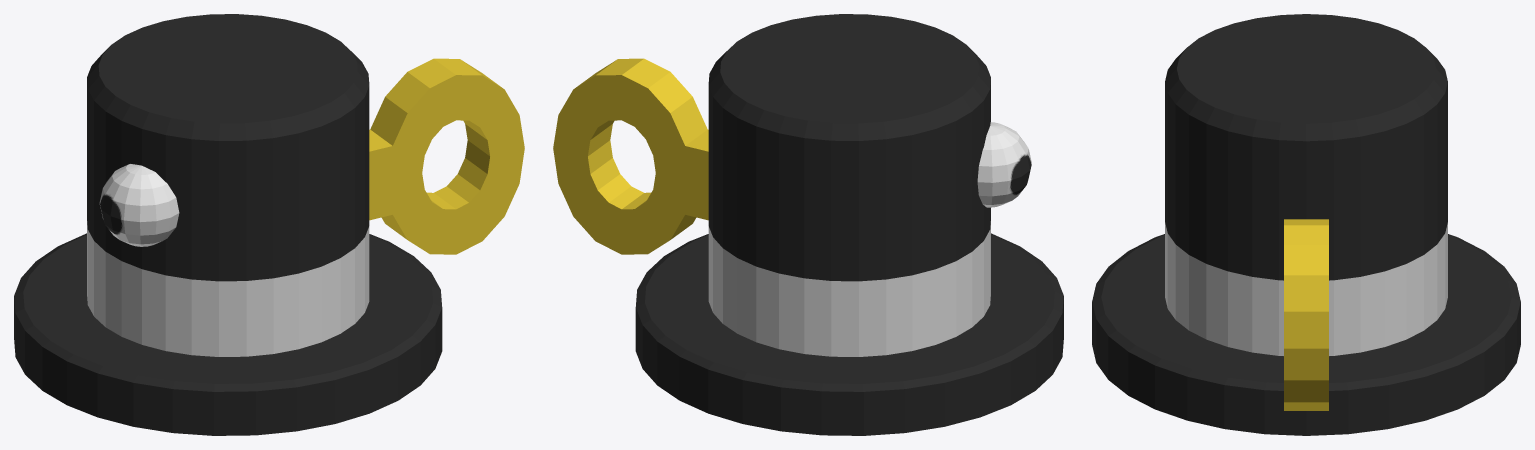
File: knob.glb
3 views of the same model, side by side, from view 1: azimuth 30°, elevation 25°; view 2: azimuth 150°, elevation 25°; view 3: azimuth 270°, elevation 25° (orthographic).
Visible parts, largest first — view 1: Cylinder, Cylinder.001, Sphere; view 2: Cylinder, Cylinder.001, Sphere; view 3: Cylinder, Cylinder.001.
Boxes of the visible parts, x1=… form: Cylinder: x1=14, y1=14, x2=442, y2=435; Cylinder.001: x1=369, y1=58, x2=524, y2=254; Sphere: x1=99, y1=164, x2=179, y2=246; Cylinder: x1=635, y1=14, x2=1063, y2=435; Cylinder.001: x1=553, y1=58, x2=708, y2=254; Sphere: x1=977, y1=122, x2=1031, y2=207; Cylinder: x1=1092, y1=14, x2=1520, y2=435; Cylinder.001: x1=1284, y1=219, x2=1328, y2=410.
Size of the model in its own units: 2.54 by 1.42 by 2.
Materials: 3 (3 with a texture image).
